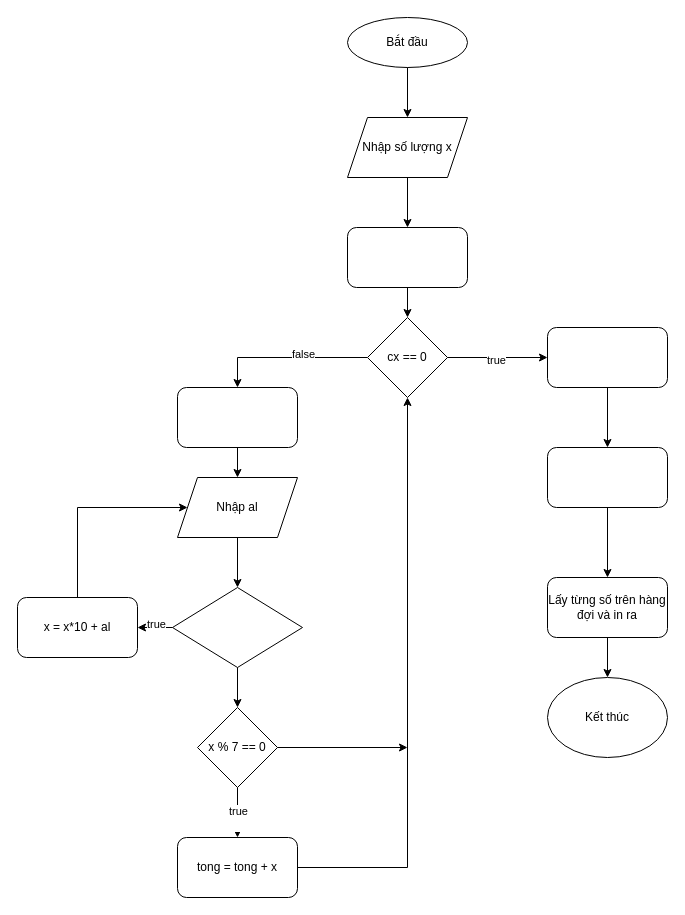
Image size: 685x915. Some labels were removed from this diagram. The shapes that lost their labels are listed below. From the top down, each one's box as (x1, y1, x2, y2) in pixels, then its label:
(346, 226, 468, 288): tong = 0 cx = x
(546, 326, 668, 388): ax = sum
(176, 386, 298, 448): x = 0
(546, 446, 668, 508): Lấy từng chữ số ax đẩy lên hàng đợi
(172, 586, 302, 668): al != ' ' && al != 13
